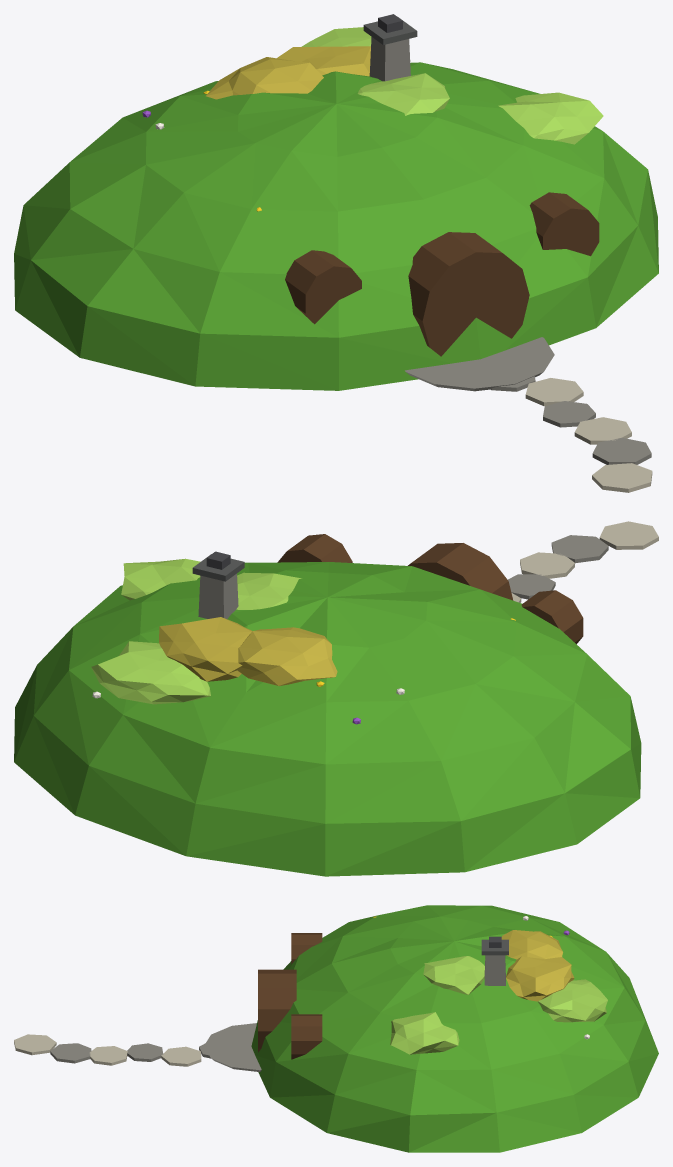
Rendered from hobbit_hole_4.glb.
The picture shows the model from 3 angles, top to bottom: view 1: azimuth 30°, elevation 25°; view 2: azimuth 150°, elevation 25°; view 3: azimuth 270°, elevation 25°; orthographic projection. The views are drawn at different scales.
Visible parts, largest first — view 1: hobbit_hole_4; view 2: hobbit_hole_4; view 3: hobbit_hole_4.
Part boxes in pixels (x1,y1,x2,y2): hobbit_hole_4: (14,14,658,492); hobbit_hole_4: (14,521,658,876); hobbit_hole_4: (14,905,658,1152).
Size of what is drawn, in the model's own units: 12.09 by 4.05 by 16.61.
